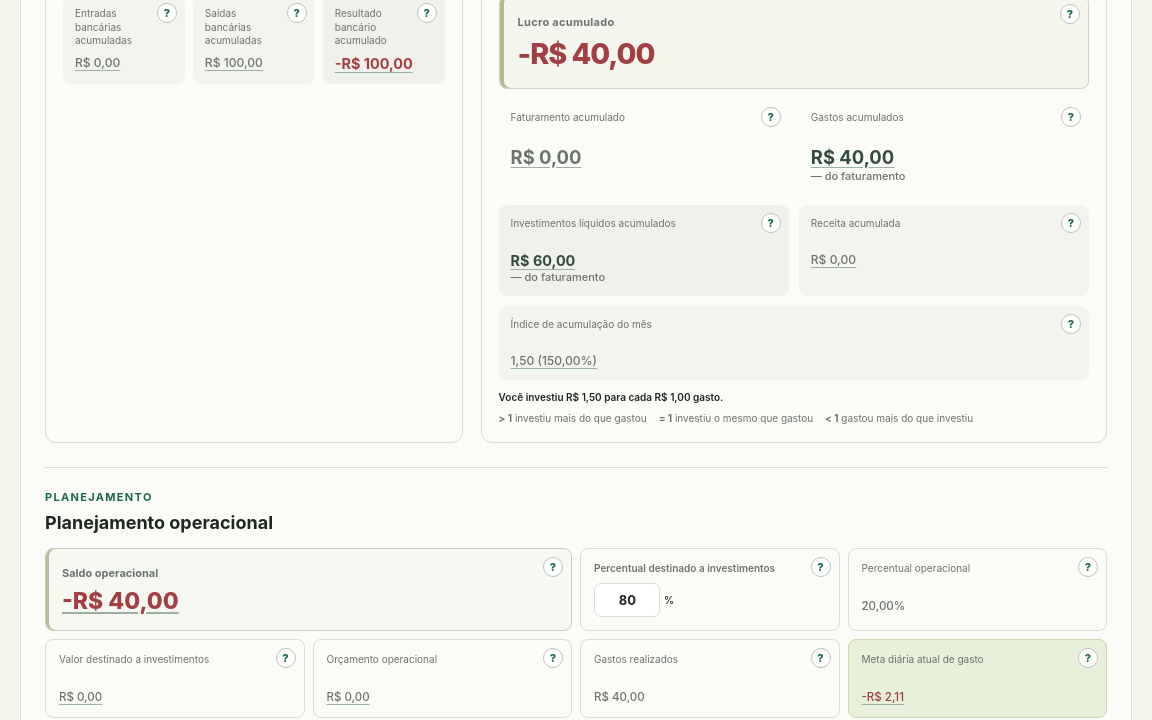
Test: memória de cálculo do índice de acumulação › abre com totais, resultado do domínio, percentual, frase e período
(page scrolled)
What coordinates should you click on to do the following:
click the button "1,50 (150,00%)"
I would click on:
 (554, 360)
Its box is [507,349,601,372].
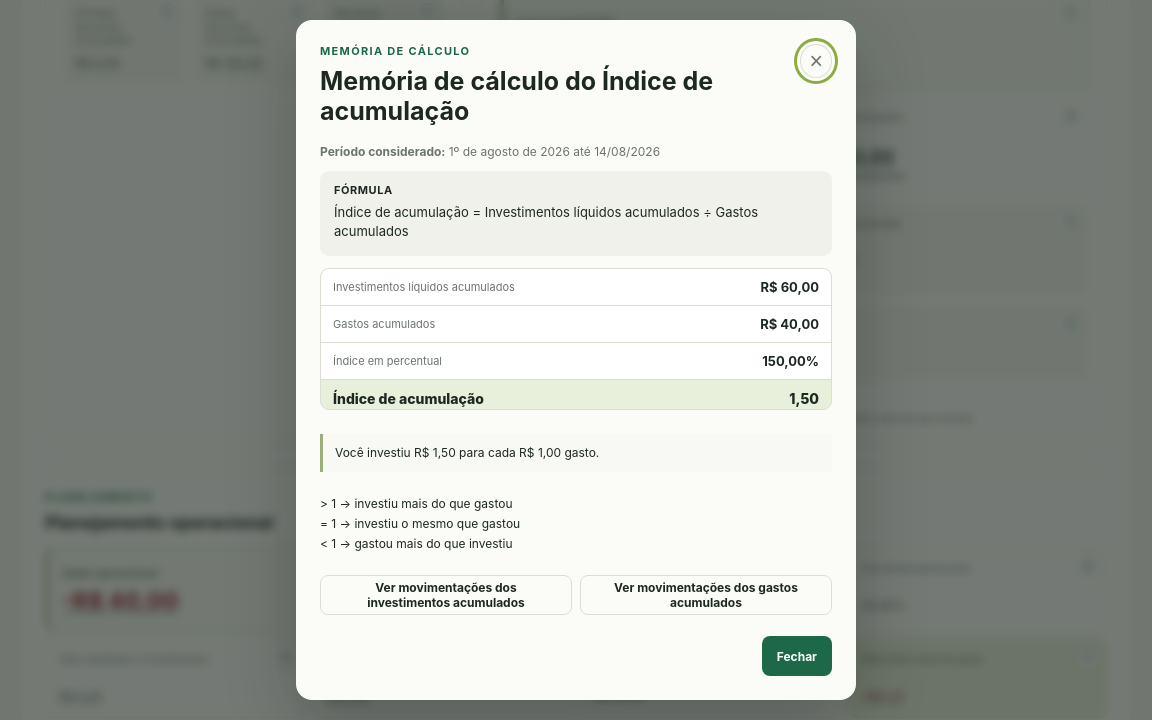
expect the dialog shows "Memória de cálculo do Índice de acumulação": met, box [320,66,713,126]
expect the dialog shows "Você investiu R$ 1,50 para cada R$ 1,00 gasto.": met, box [335,445,599,460]
expect the dialog shows "1º de agosto de 2026 até 14/08/2026": met, box [449,144,660,159]
